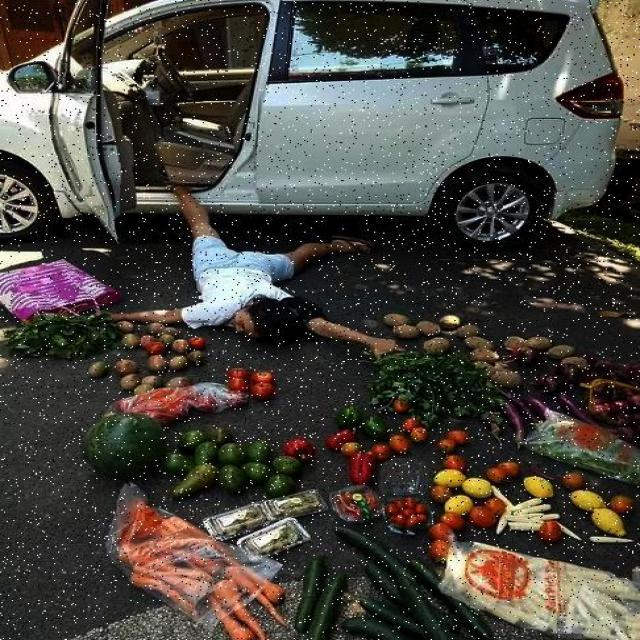fall: (161, 184, 378, 350)
